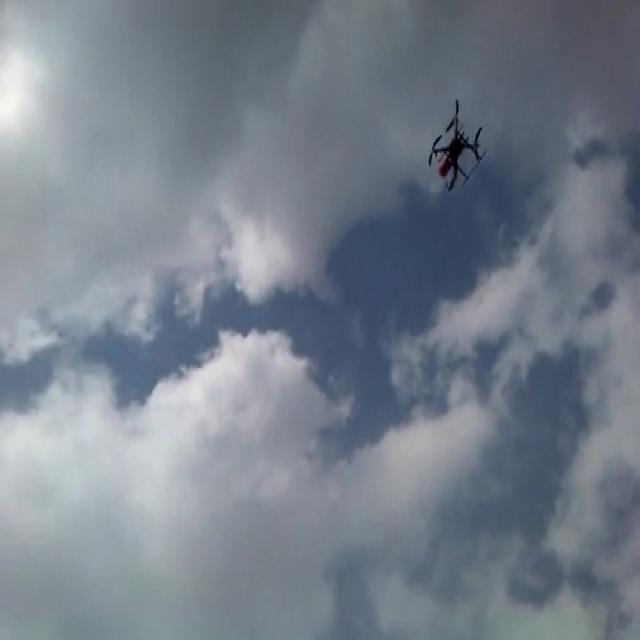drone: (425, 94, 487, 192)
